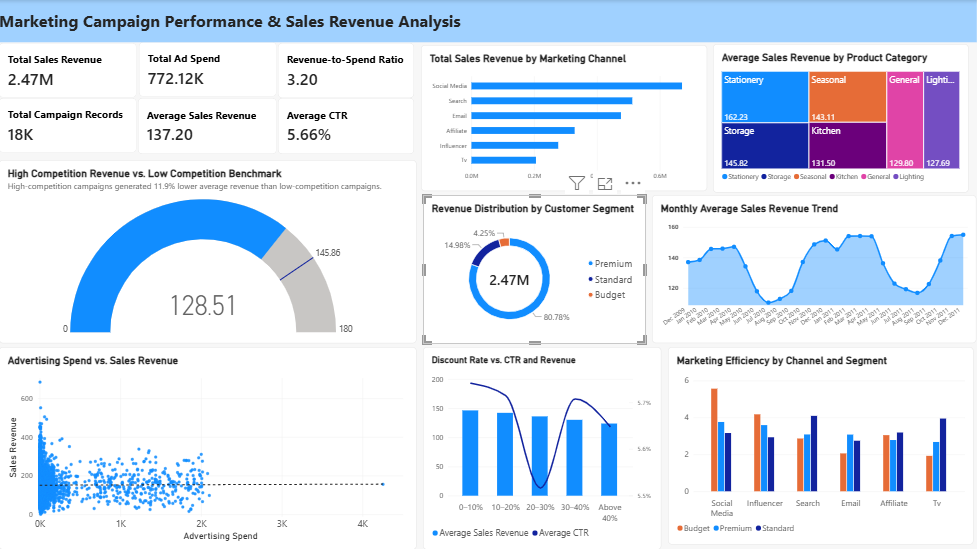

What the dashboard file says about the page in this screenshot:
{"tool":"powerbi","page":{"name":"Page 1","canvas":[1920,1080],"ordinal":0},"visuals":[{"type":"cardVisual","fields":{"Data":["marketing_campaign_cleaned.Total Sales Revenue"]},"box":[0,85,270,107.5],"z":0},{"type":"cardVisual","fields":{"Data":["marketing_campaign_cleaned.Total Ad Spend"]},"box":[274.3,82.9,270,107.5],"z":1000},{"type":"cardVisual","fields":{"Data":["marketing_campaign_cleaned.Revenue-to-Spend Ratio"]},"box":[547.1,84.3,267.1,108.6],"z":2000},{"type":"cardVisual","fields":{"Data":["marketing_campaign_cleaned.Total Campaign Records"]},"box":[0,192.5,270,107.5],"z":3000},{"type":"cardVisual","fields":{"Data":["marketing_campaign_cleaned.Average Sales Revenue"]},"box":[272.5,192.5,272.5,110],"z":4000},{"type":"cardVisual","fields":{"Data":["marketing_campaign_cleaned.Average CTR"]},"box":[547.5,192.5,267.5,110],"z":5000},{"type":"clusteredBarChart","title":"Total Sales Revenue by Marketing Channel","fields":{"Category":["marketing_campaign_cleaned.channel"],"Y":["marketing_campaign_cleaned.Total Sales Revenue"]},"box":[828.3,88.3,561.7,286.7],"z":6000},{"type":"clusteredColumnChart","title":"Marketing Efficiency by Channel and Segment","fields":{"Category":["marketing_campaign_cleaned.channel"],"Series":["marketing_campaign_cleaned.customer_segment"],"Y":["marketing_campaign_cleaned.Revenue-to-Spend Ratio"]},"box":[1313.3,681.7,600,388.3],"z":7000},{"type":"gauge","title":"High Competition Revenue vs. Low Competition Benchmark","fields":{"MaxValue":["marketing_campaign_cleaned.Gauge Maximum"],"TargetValue":["marketing_campaign_cleaned.Low Competition Avg Revenue"],"Y":["marketing_campaign_cleaned.High Competition Avg Revenue"]},"box":[0,315,820,360],"z":8000},{"type":"treemap","title":"Average Sales Revenue by Product Category","fields":{"Group":["marketing_campaign_cleaned.product_category"],"Values":["marketing_campaign_cleaned.Average Sales Revenue"]},"box":[1401.7,86.7,501.7,291.7],"z":9000},{"type":"donutChart","title":"Revenue Distribution by Customer Segment","fields":{"Category":["marketing_campaign_cleaned.customer_segment"],"Y":["marketing_campaign_cleaned.Total Sales Revenue"]},"box":[831.7,383.3,438.3,291.7],"z":10000},{"type":"lineChart","title":"Monthly Average Sales Revenue Trend","fields":{"Category":["marketing_campaign_cleaned.Month Year"],"Y":["marketing_campaign_cleaned.Average Sales Revenue"]},"box":[1282.9,382.9,637.1,291.4],"z":11000},{"type":"scatterChart","title":"Advertising Spend vs. Sales Revenue","fields":{"Category":["marketing_campaign_cleaned.id"],"X":["Sum(marketing_campaign_cleaned.ad_spend)"],"Y":["Sum(marketing_campaign_cleaned.sales_revenue)"]},"box":[0,681.7,820,398.3],"z":12000},{"type":"lineClusteredColumnComboChart","title":"Discount Rate vs. CTR and Revenue","fields":{"Category":["marketing_campaign_cleaned.Discount Group"],"Y":["marketing_campaign_cleaned.Average Sales Revenue"],"Y2":["marketing_campaign_cleaned.Average CTR"]},"box":[831.7,681.7,468.3,398.3],"z":13000},{"type":"textbox","box":[0,0,1920,82.5],"z":13001}]}

Visuals, with their boxes in screenshot pixels (x1, y1, x2, y2), scaled from the page's 1920x1080 canvas onto the 977x549 screenshot:
cardVisual - marketing_campaign_cleaned.Total Sales Revenue: 0/43/137/98
cardVisual - marketing_campaign_cleaned.Total Ad Spend: 140/42/277/97
cardVisual - marketing_campaign_cleaned.Revenue-to-Spend Ratio: 278/43/414/98
cardVisual - marketing_campaign_cleaned.Total Campaign Records: 0/98/137/152
cardVisual - marketing_campaign_cleaned.Average Sales Revenue: 139/98/277/154
cardVisual - marketing_campaign_cleaned.Average CTR: 279/98/415/154
"Total Sales Revenue by Marketing Channel" clusteredBarChart: 421/45/707/191
"Marketing Efficiency by Channel and Segment" clusteredColumnChart: 668/347/974/544
"High Competition Revenue vs. Low Competition Benchmark" gauge: 0/160/417/343
"Average Sales Revenue by Product Category" treemap: 713/44/969/192
"Revenue Distribution by Customer Segment" donutChart: 423/195/646/343
"Monthly Average Sales Revenue Trend" lineChart: 653/195/976/343
"Advertising Spend vs. Sales Revenue" scatterChart: 0/347/417/548
"Discount Rate vs. CTR and Revenue" lineClusteredColumnComboChart: 423/347/662/548
textbox: 0/0/976/42
